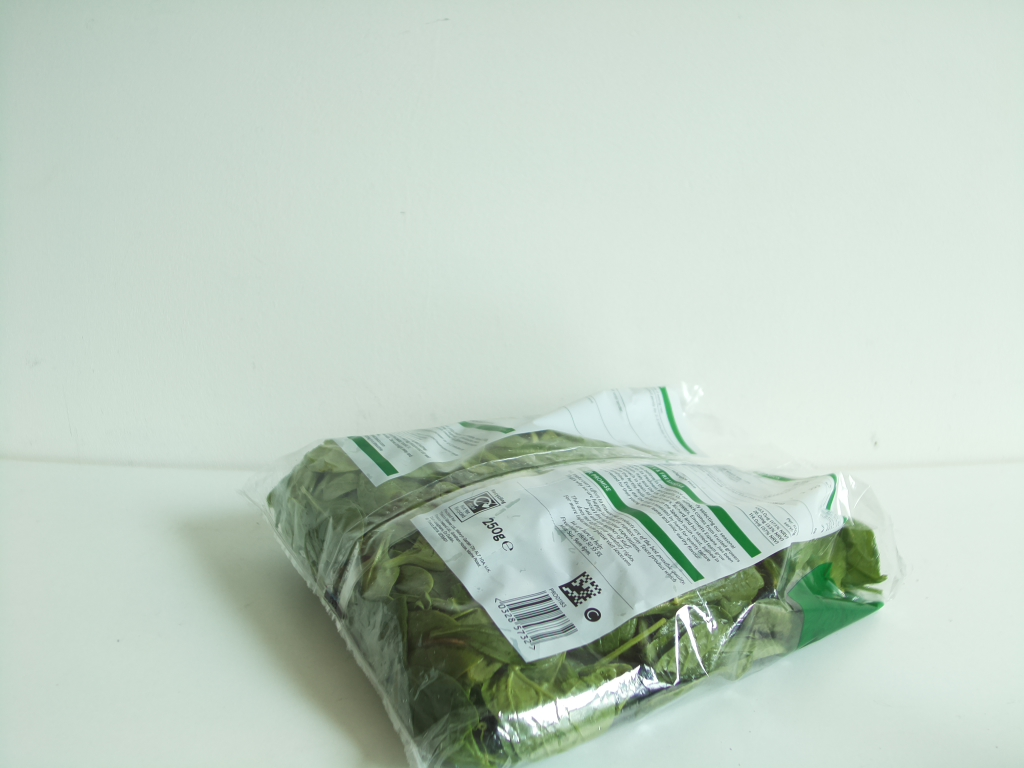salad: (275, 380, 884, 759)
